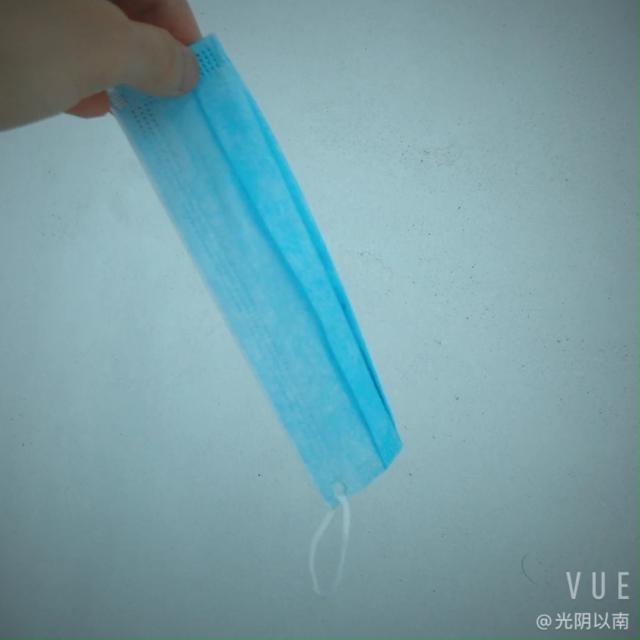non-organic waste: (123, 24, 388, 518)
